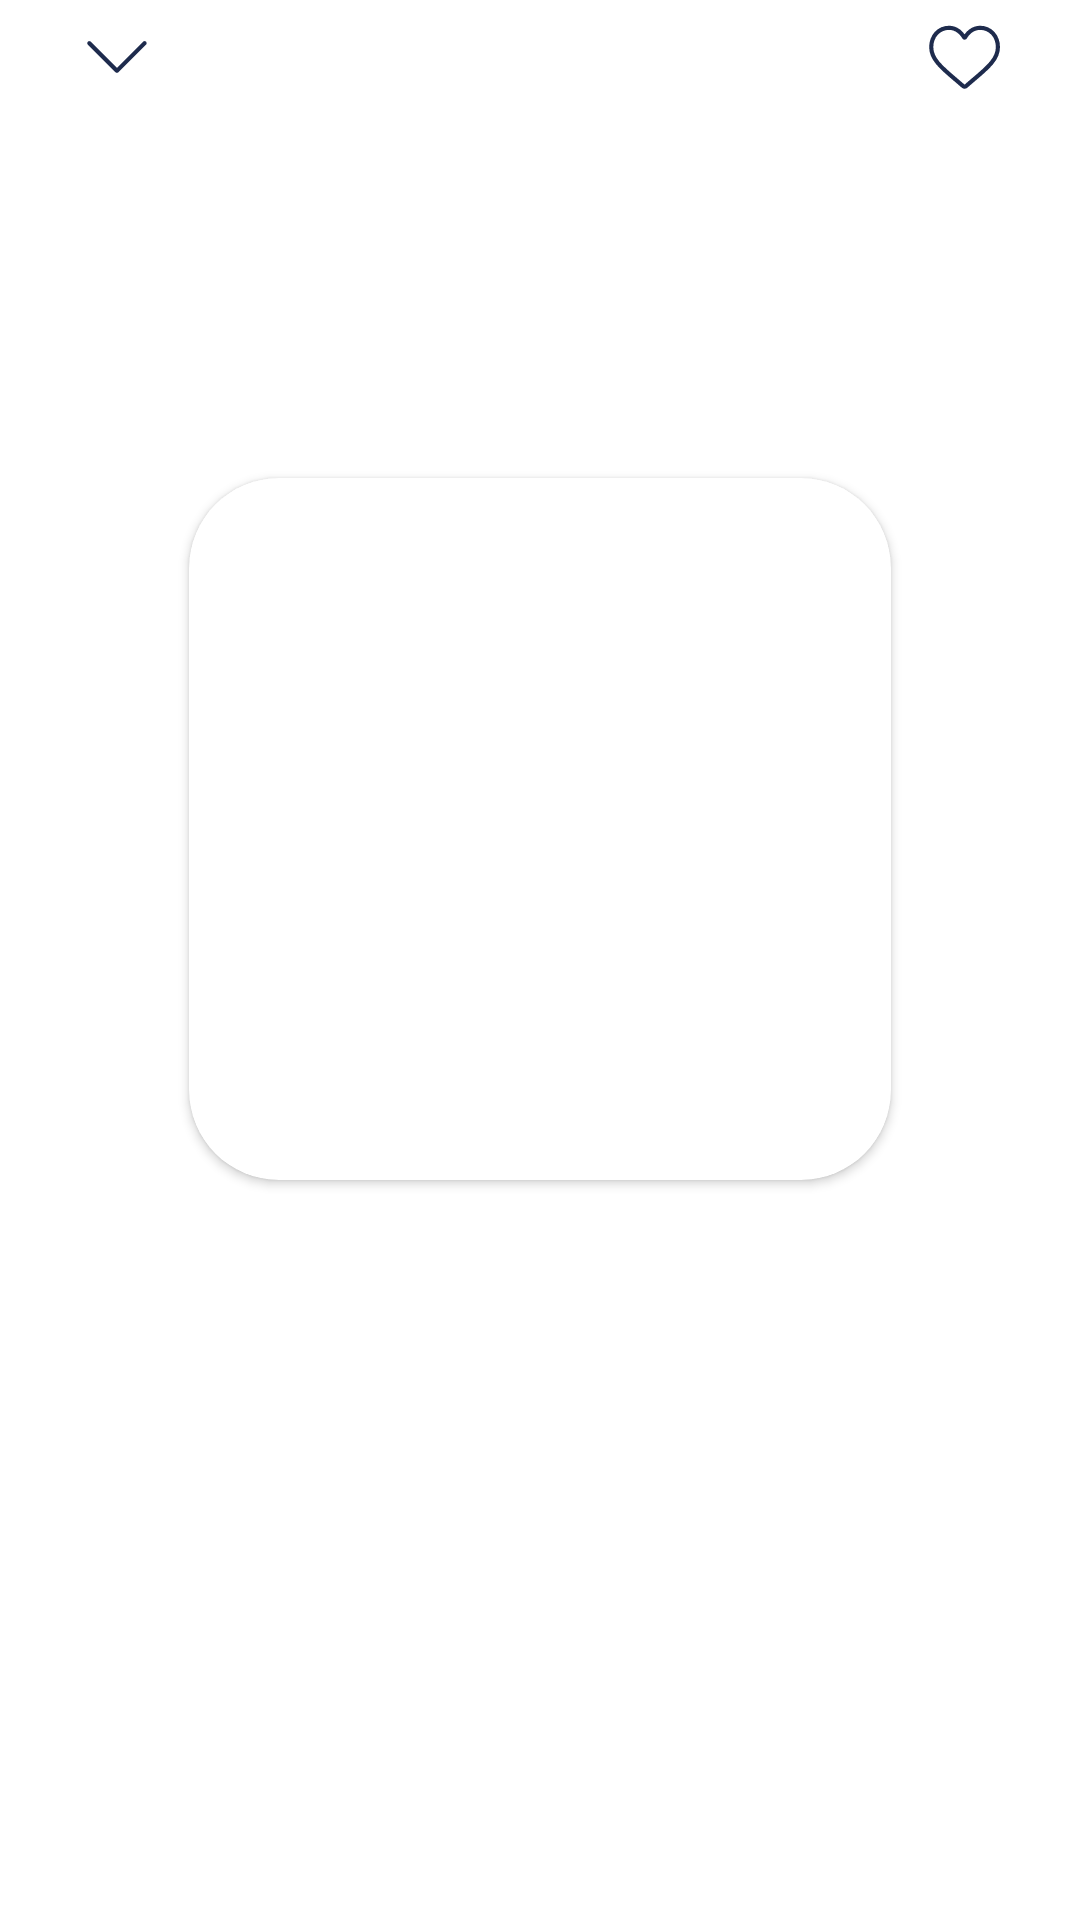

Locate icon controls on the screen. Image size 1080*1920, boxes as (x1, y1, x2, y2).
down arrow: (87, 41, 147, 73)
favorite off station: (929, 25, 1000, 89)
